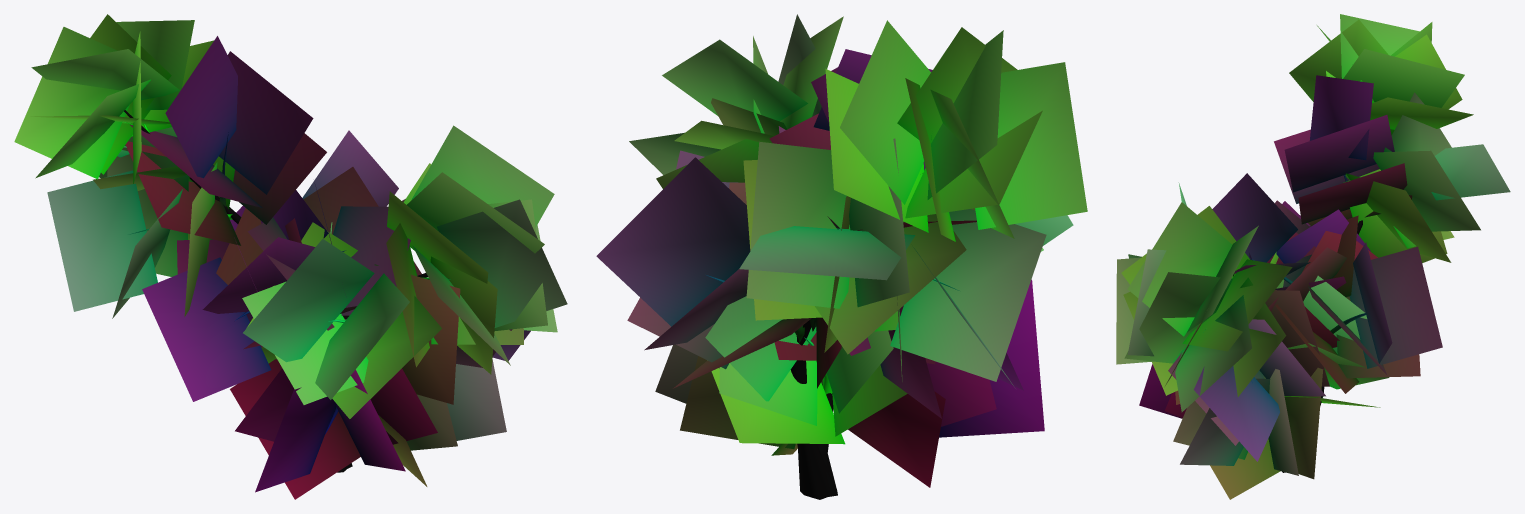
The model's file is M_P15_Tree_6.fbx.
The picture shows the model from 3 angles, left to right: view 1: azimuth 30°, elevation 25°; view 2: azimuth 150°, elevation 25°; view 3: azimuth 270°, elevation 25°; orthographic projection. The views are drawn at different scales.
Parts seen in each view (by area): view 1: Tree_6; view 2: Tree_6; view 3: Tree_6.
Part boxes in pixels (box(x1,y1,x2,y2)): Tree_6: box(14, 14, 567, 499); Tree_6: box(596, 14, 1087, 499); Tree_6: box(1116, 14, 1510, 499).
Bounding box in the file's own units: 759 × 755 × 690.
